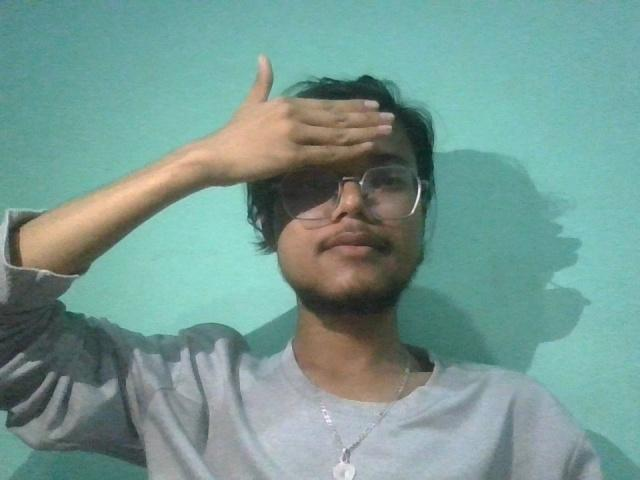forget: (179, 32, 414, 187)
